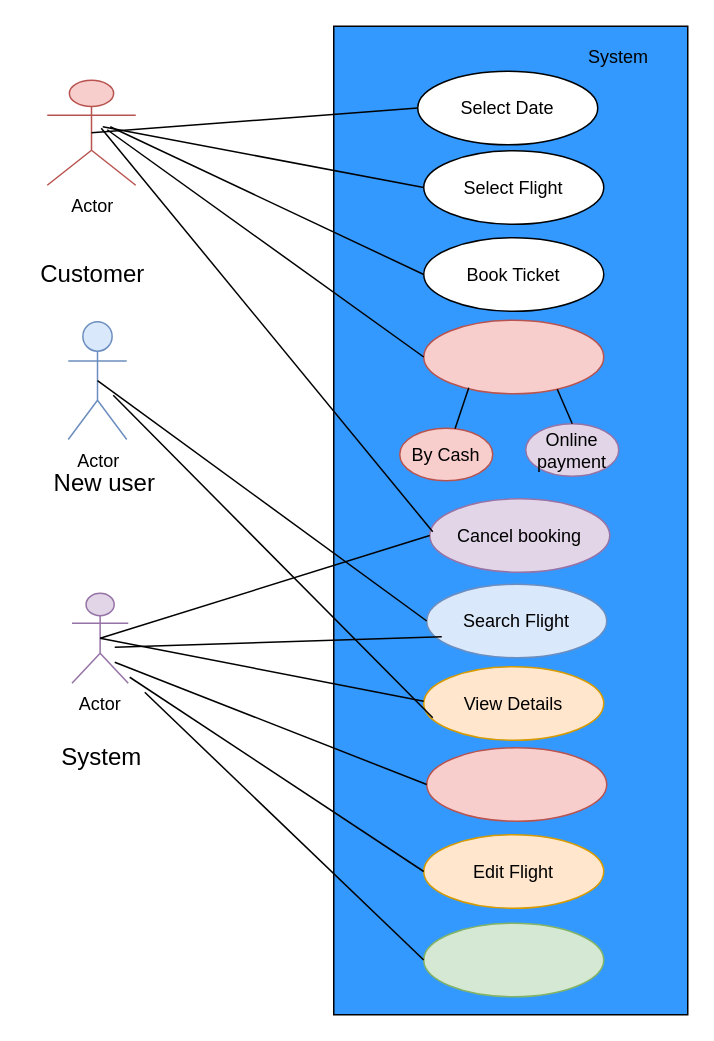
This 714x1041 diagram has some shape labels left out. Here are the shapes that lost their labels. From the top down, the centre of each, then its label:
At point (513, 356): "Make Pyament".
At point (516, 783): "Flight Add".
At point (513, 959): "Cancel flight".
